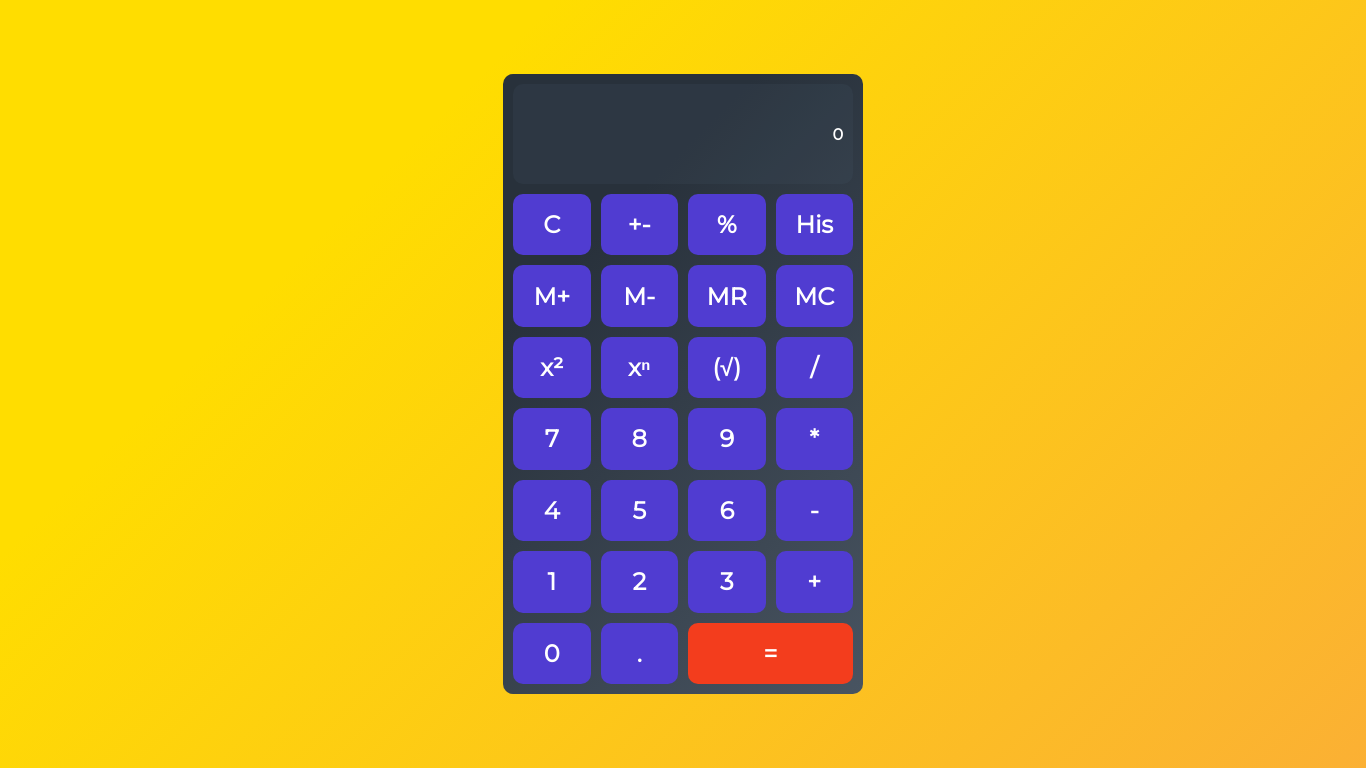
Scenario: Calculator › should be able to do the square of a number
Click the button "9": point(727, 439) [688,408,766,470]
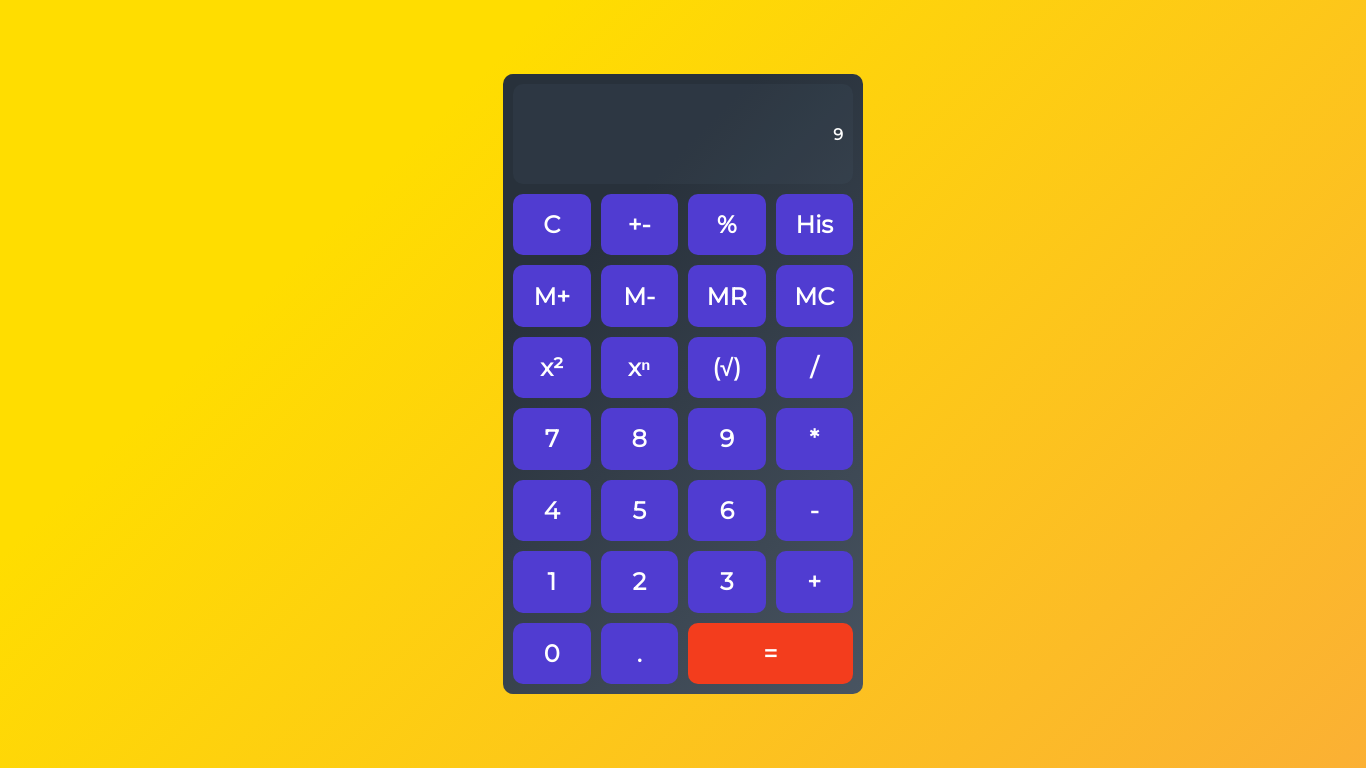
Click the button "x²": point(552, 368) [513,337,590,398]
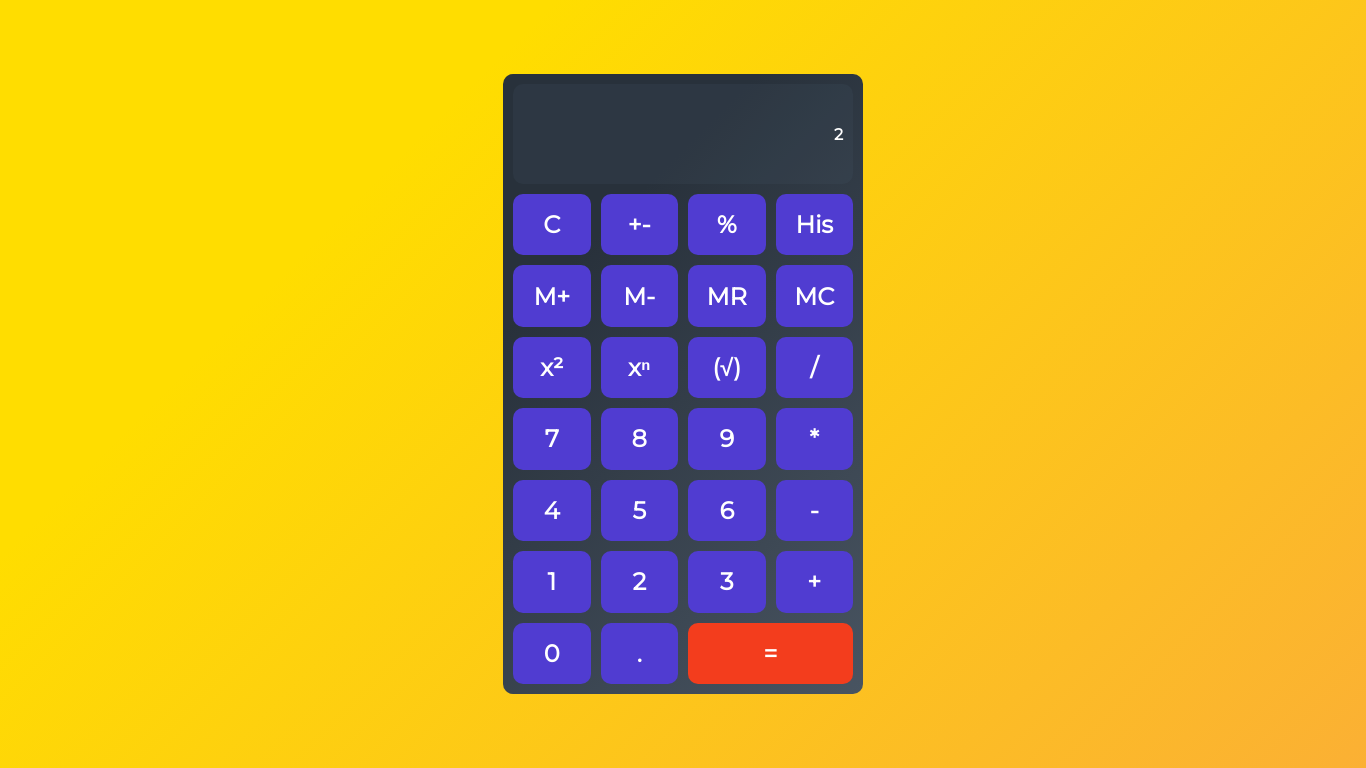
Click the button "=": point(770, 653) [688,623,853,684]
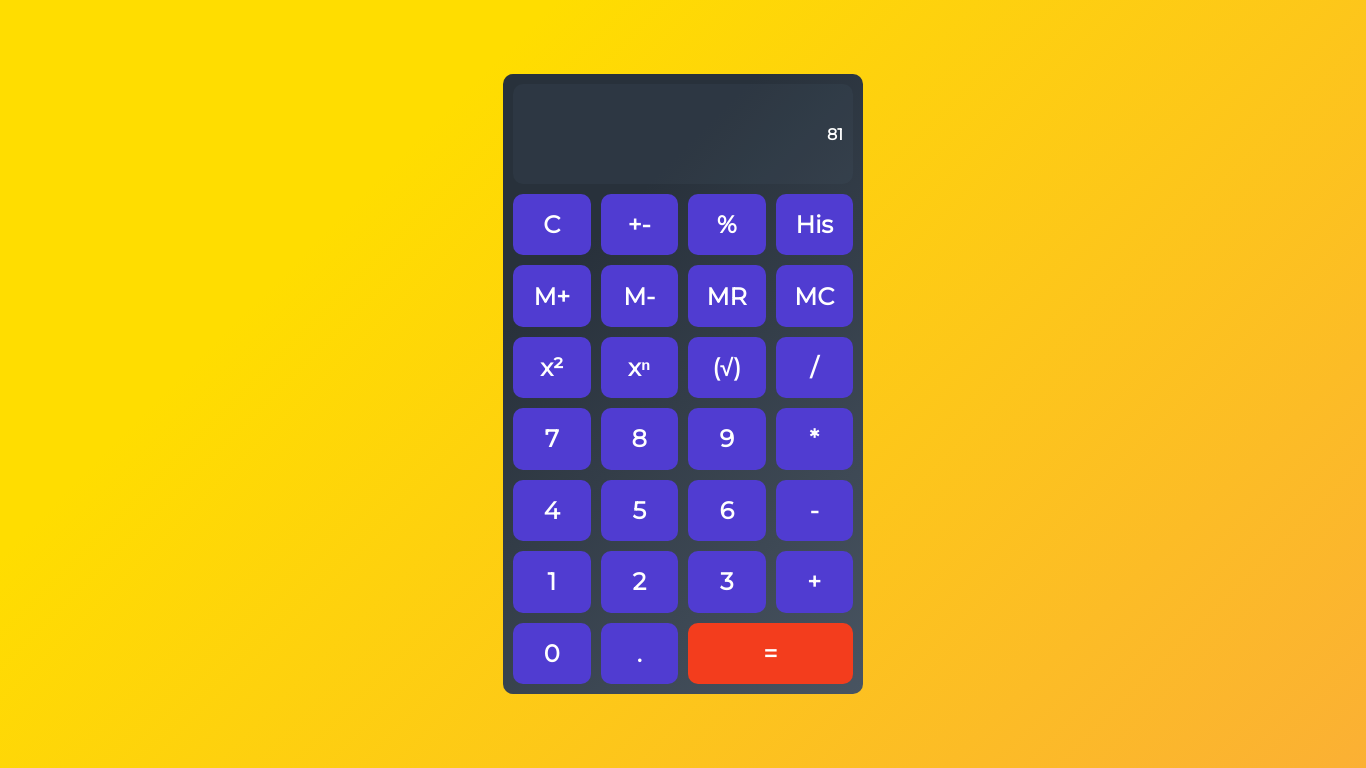
expect the text with test id "screen" reads "81": met, box [827,124,843,144]
